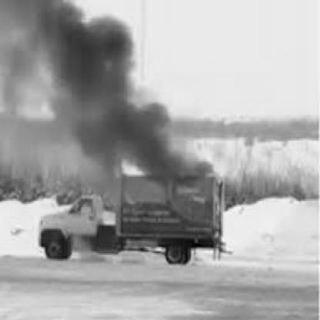Fire: (105, 135, 153, 183)
Smoke: (20, 4, 178, 171)
